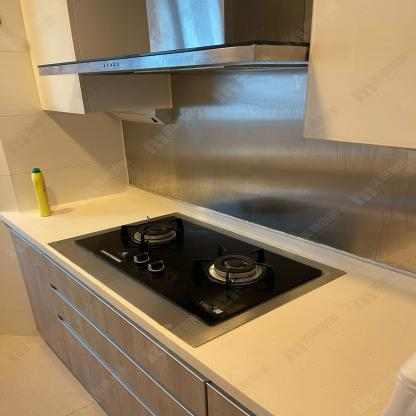Exhaust Hood: (35, 42, 311, 78)
Stove: (36, 203, 366, 356)
